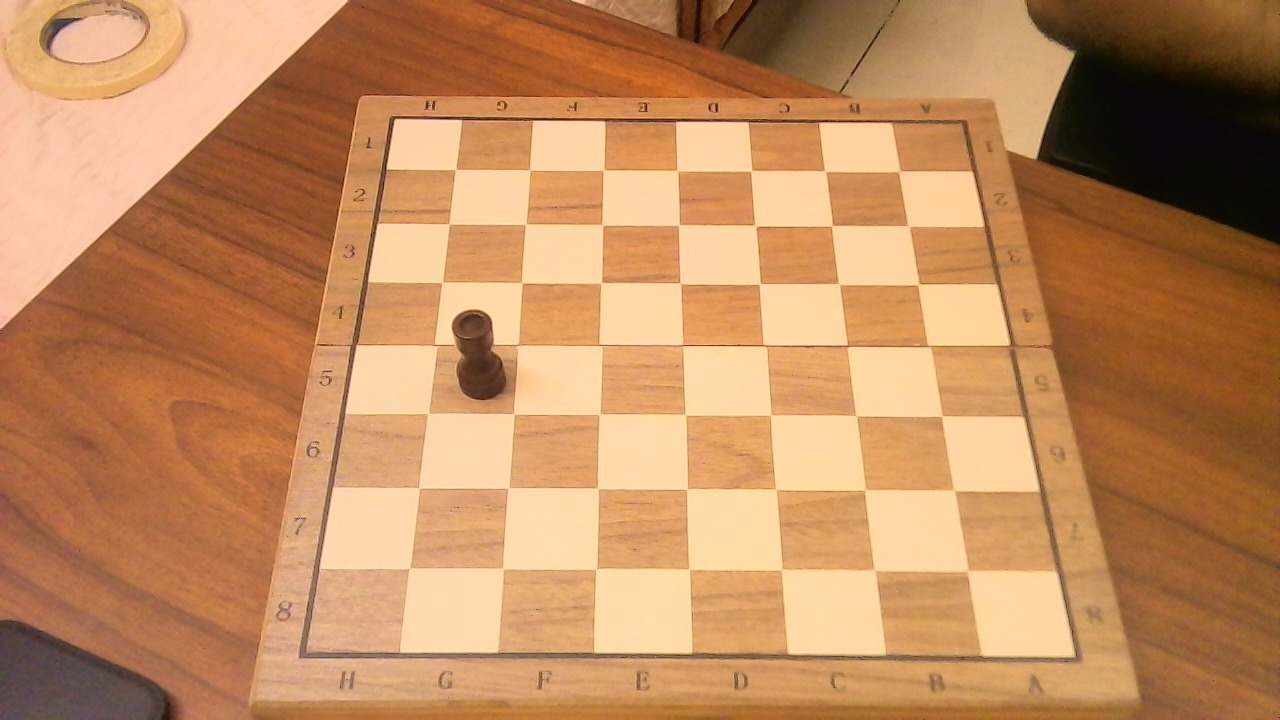r: (444, 297, 511, 404)
